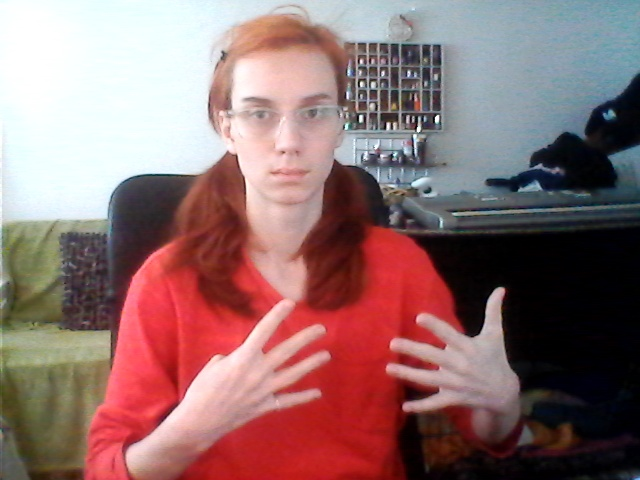devat: (181, 284, 528, 423)
